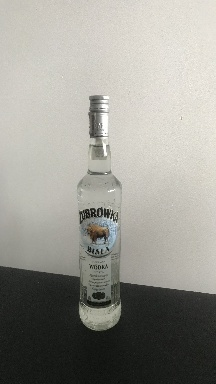butelka: (75, 91, 123, 333)
